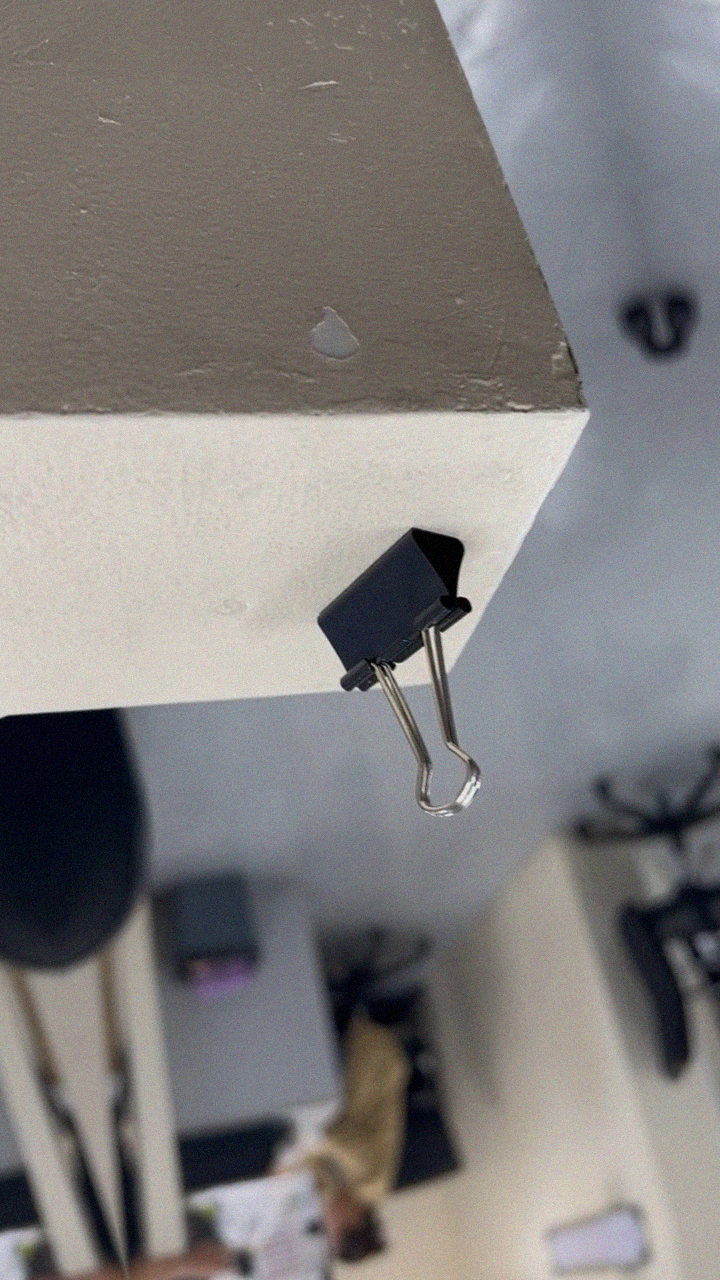kep_giay: (297, 513, 523, 838)
